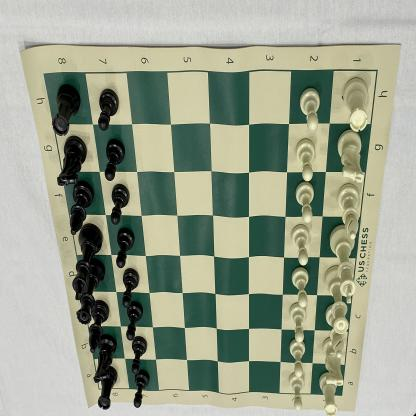black-bishop: (69, 182, 94, 237), (87, 301, 110, 353)
black-king: (71, 224, 103, 301)
black-knight: (56, 138, 88, 188), (93, 335, 117, 383)
black-pawn: (97, 88, 120, 131), (104, 139, 125, 181), (110, 183, 130, 227), (115, 228, 136, 268), (121, 267, 139, 308), (133, 370, 151, 409), (131, 336, 148, 376), (126, 302, 143, 342)
black-queen: (76, 261, 104, 324)
black-rook: (50, 83, 80, 136), (97, 367, 117, 410)
white-bishop: (338, 184, 361, 240), (325, 304, 347, 358)
white-king: (330, 225, 358, 304)
white-knight: (337, 130, 366, 184), (322, 338, 344, 388)
white-pawn: (294, 138, 320, 181), (299, 86, 322, 130), (290, 223, 312, 266), (290, 266, 312, 308), (295, 182, 317, 223), (288, 370, 306, 412), (288, 302, 306, 342), (288, 340, 306, 376)
white-queen: (324, 265, 351, 336)
white-rook: (342, 77, 370, 135), (319, 372, 339, 416)
